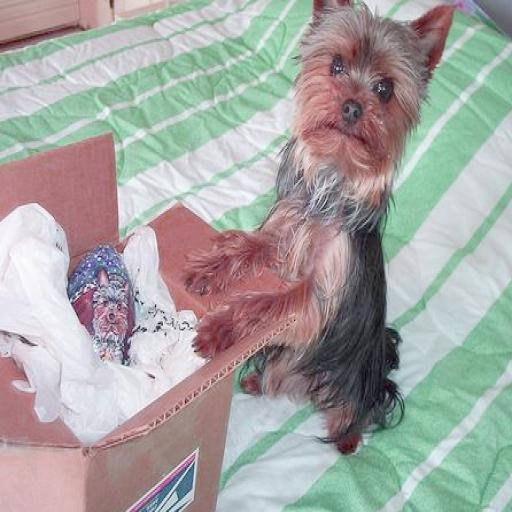dog_face: (300, 0, 450, 191)
